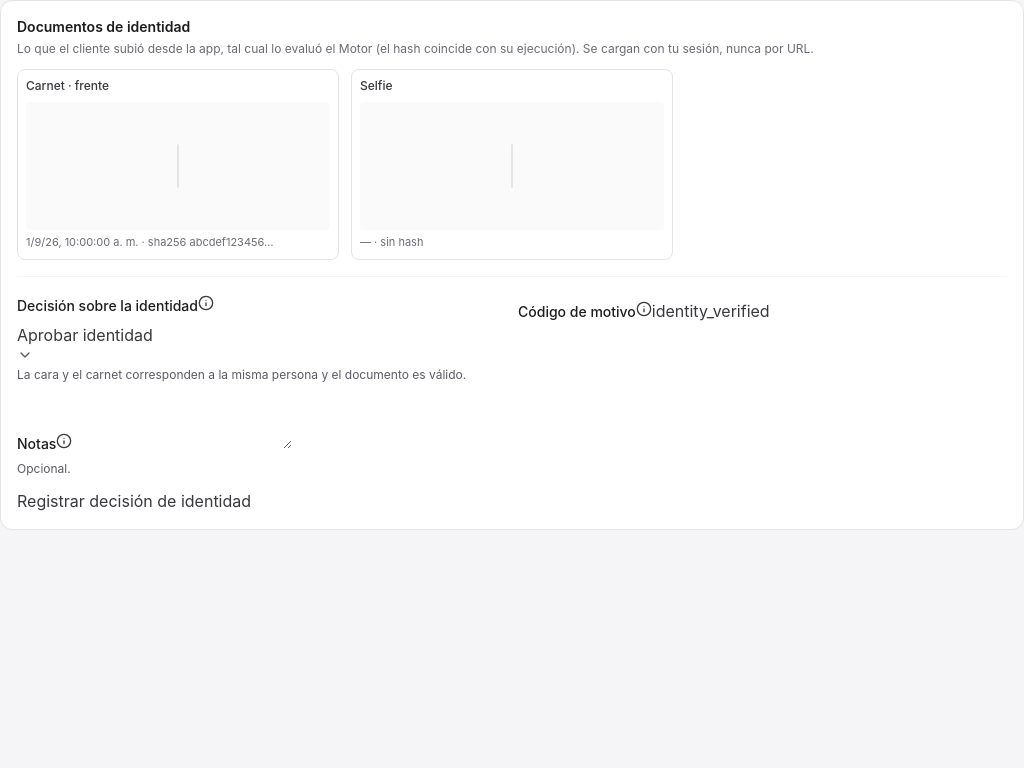
Test: IdentityEvidencePanel › registra la decisión en el endpoint de identidad del cliente
Expected: the text "Carnet · frente" is shown, [26,78,109,93]
Click the button "Registrar decisión de identidad".
click(134, 500)  # box [17,488,251,512]
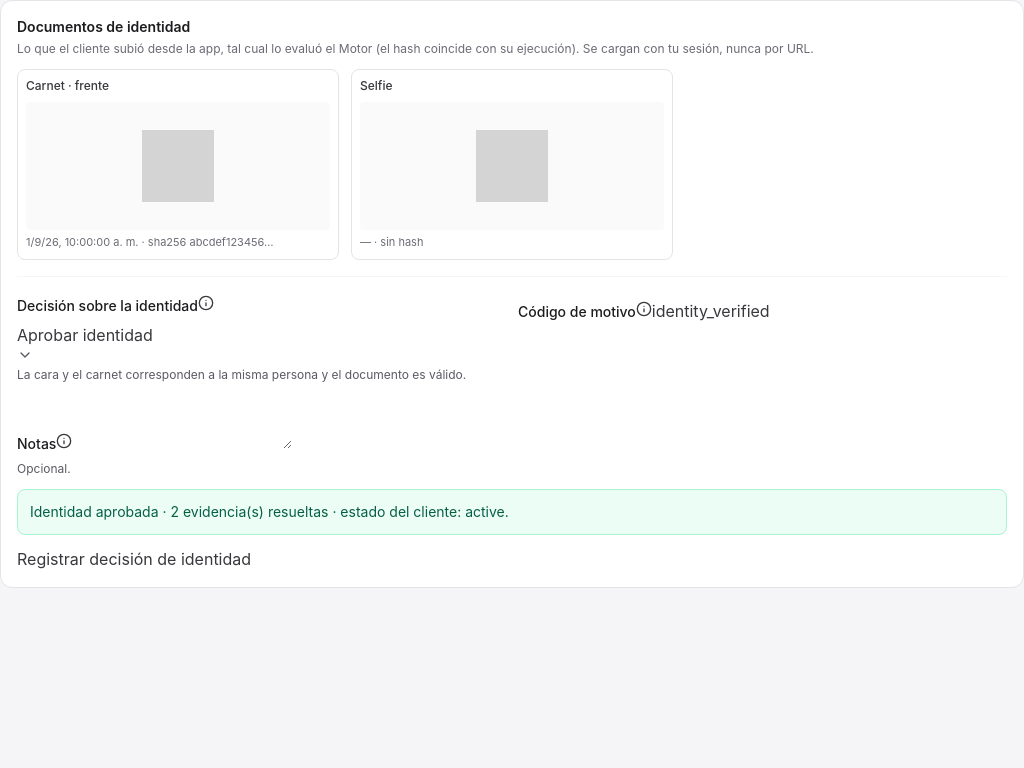
Expected: the text "Identidad aprobada" is shown, [17,488,1007,534]
